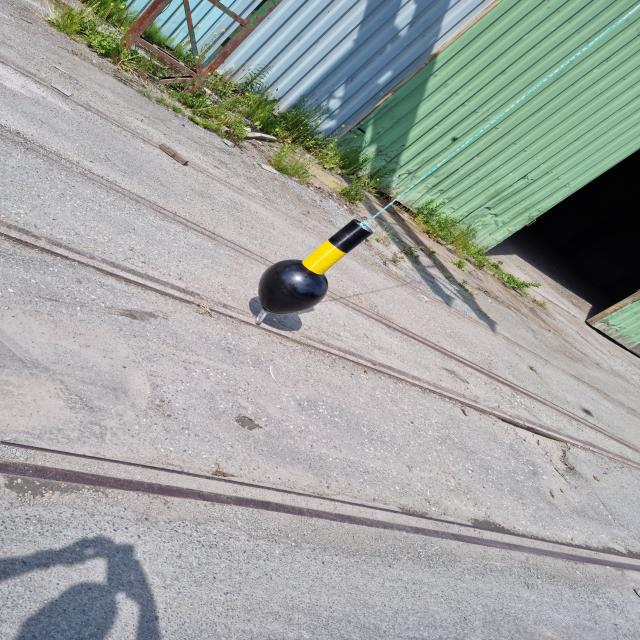east: (256, 219, 374, 314)
